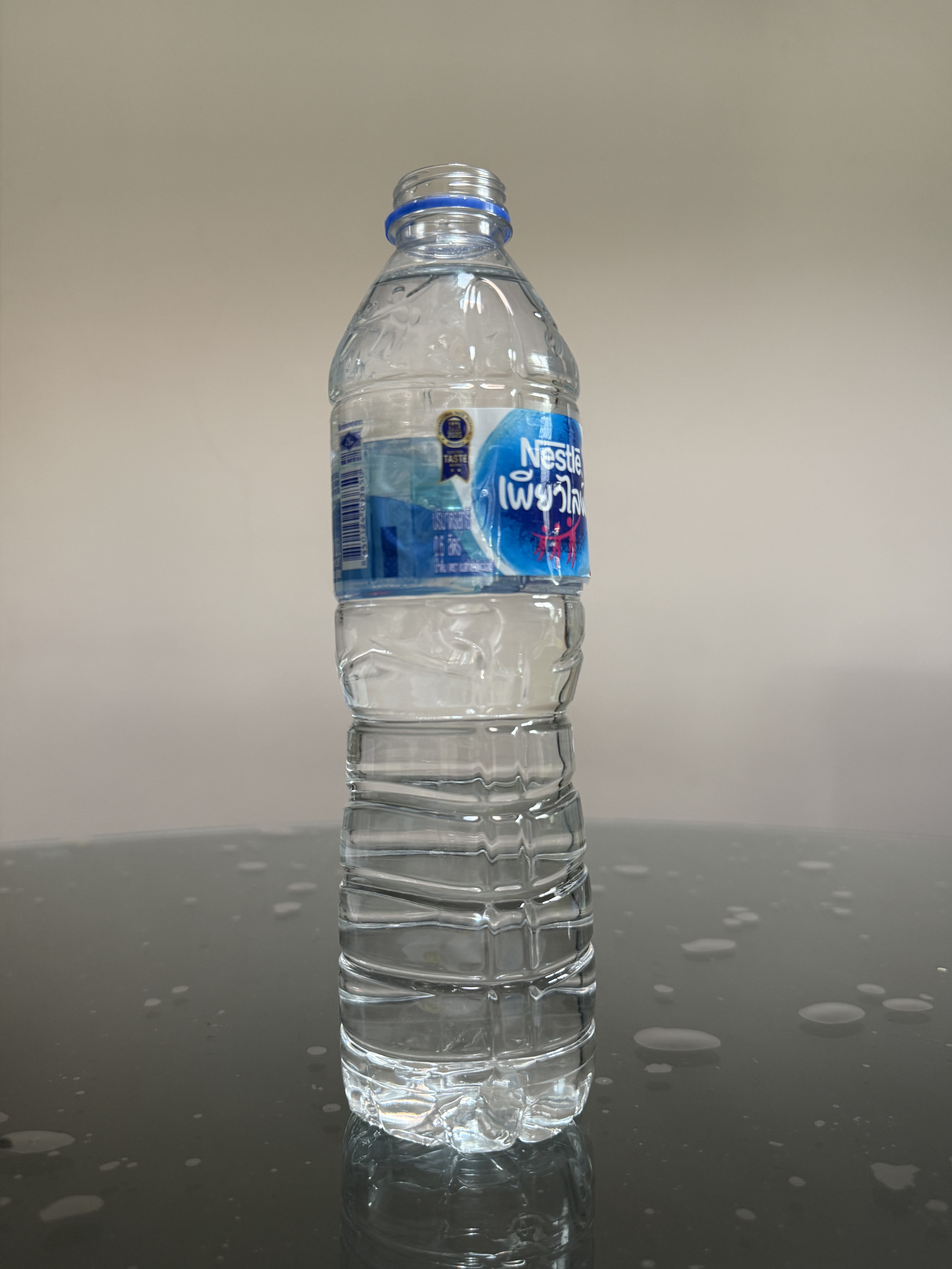no_cap: (381, 159, 515, 246)
